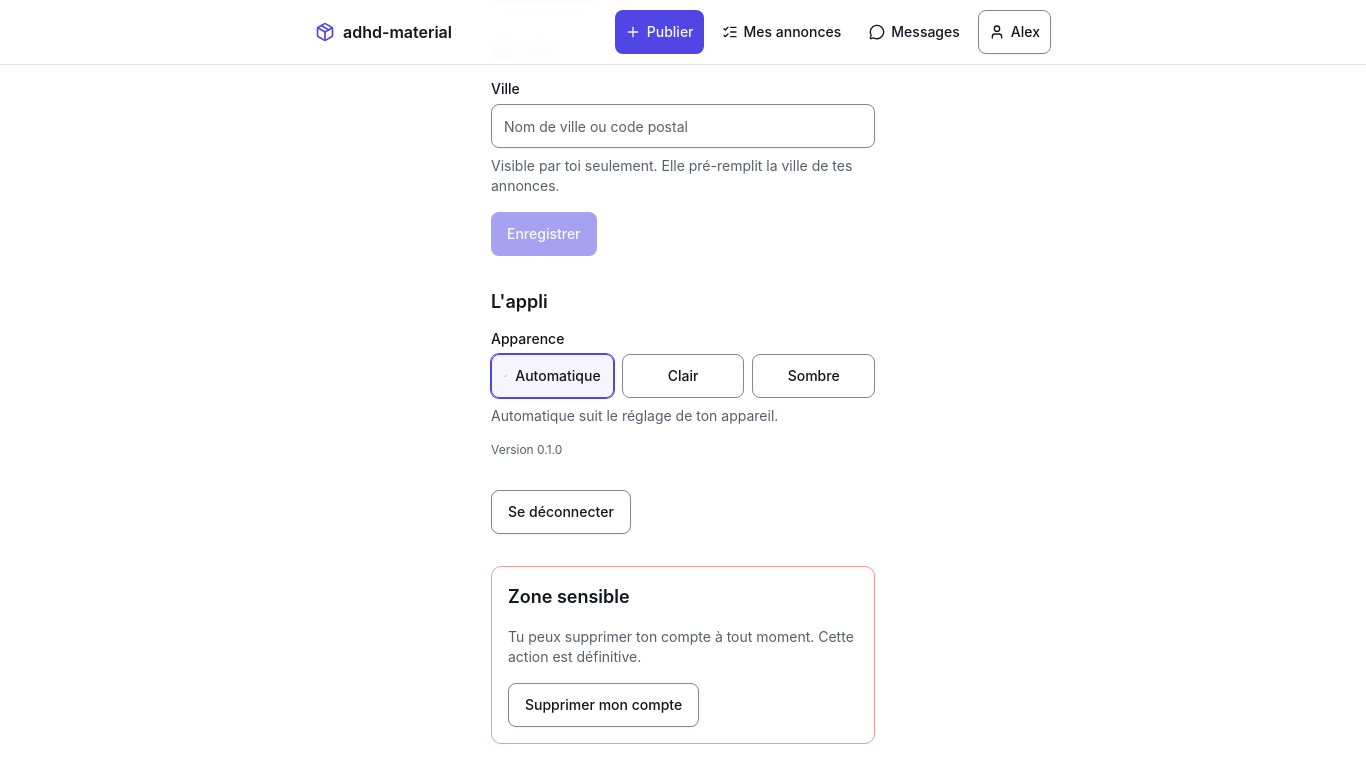
Scenario: suppression de compte › demande une ré-authentification à l'avance si la connexion est ancienne
The width and height of the screenshot is (1366, 768).
(page scrolled)
Click the button "Supprimer mon compte" at (604, 705), box [508,683,699,727]
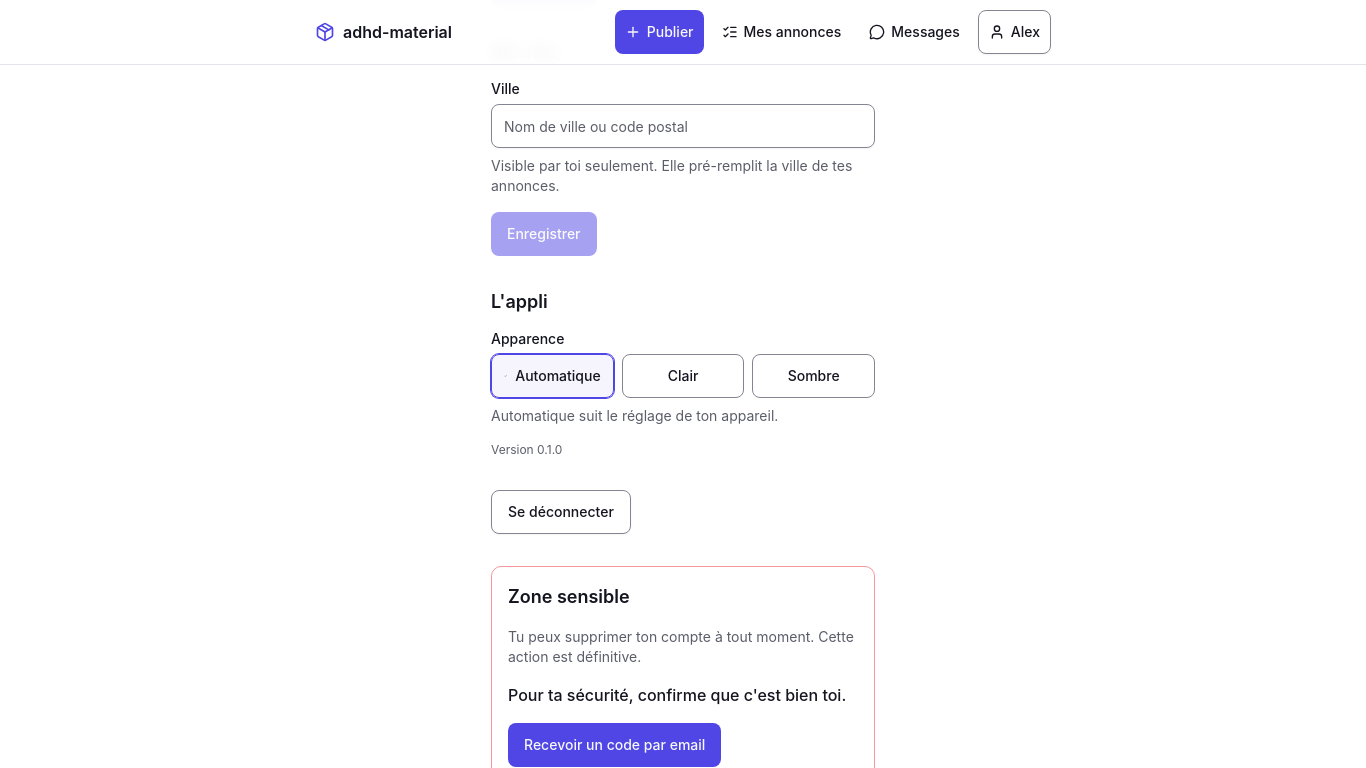
Result: the text "Pour ta sécurité, confirme que c'est bien toi." is shown at [508,683,858,707]
Click the button "Recevoir un code par email" at (615, 745), box [508,723,721,767]
(page scrolled)
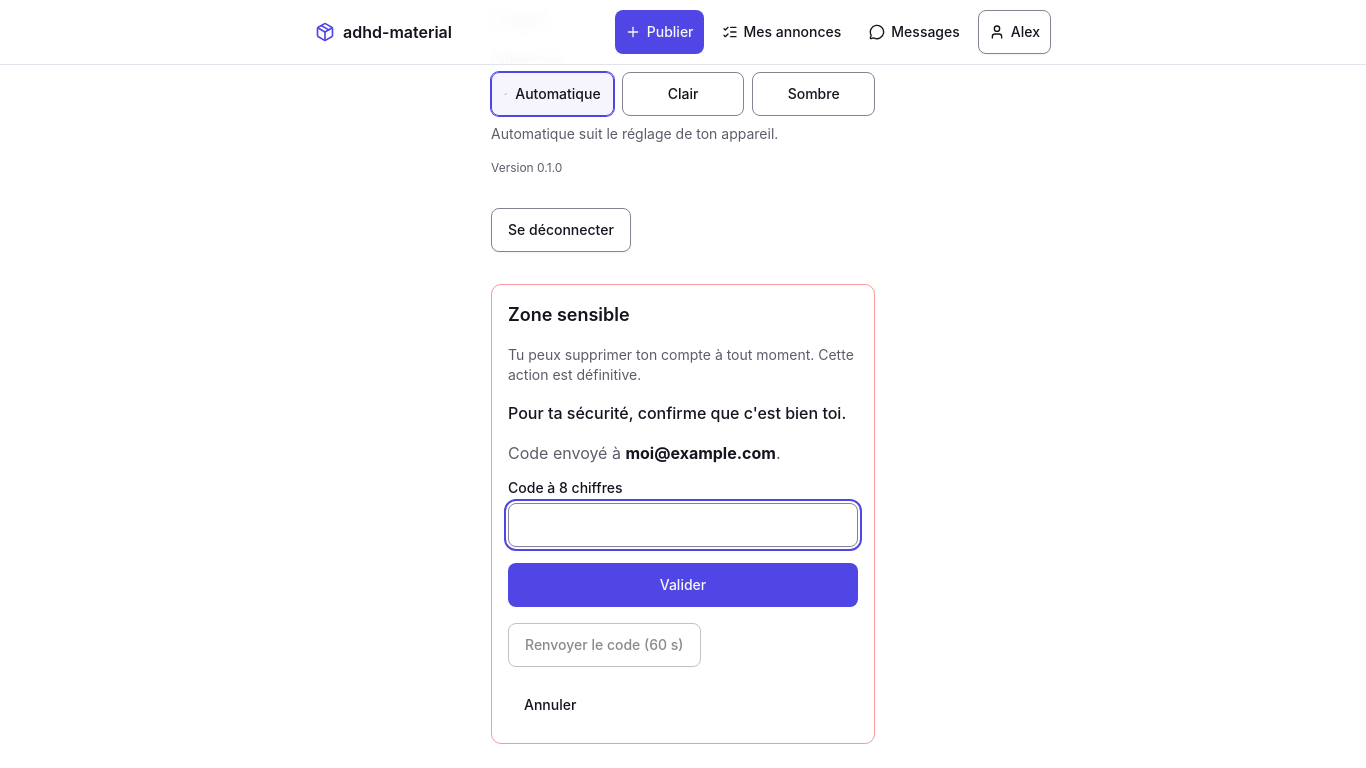
Type "12345678" into the field labelled "Code à 8 chiffres" at (683, 525), box [508,503,858,547]
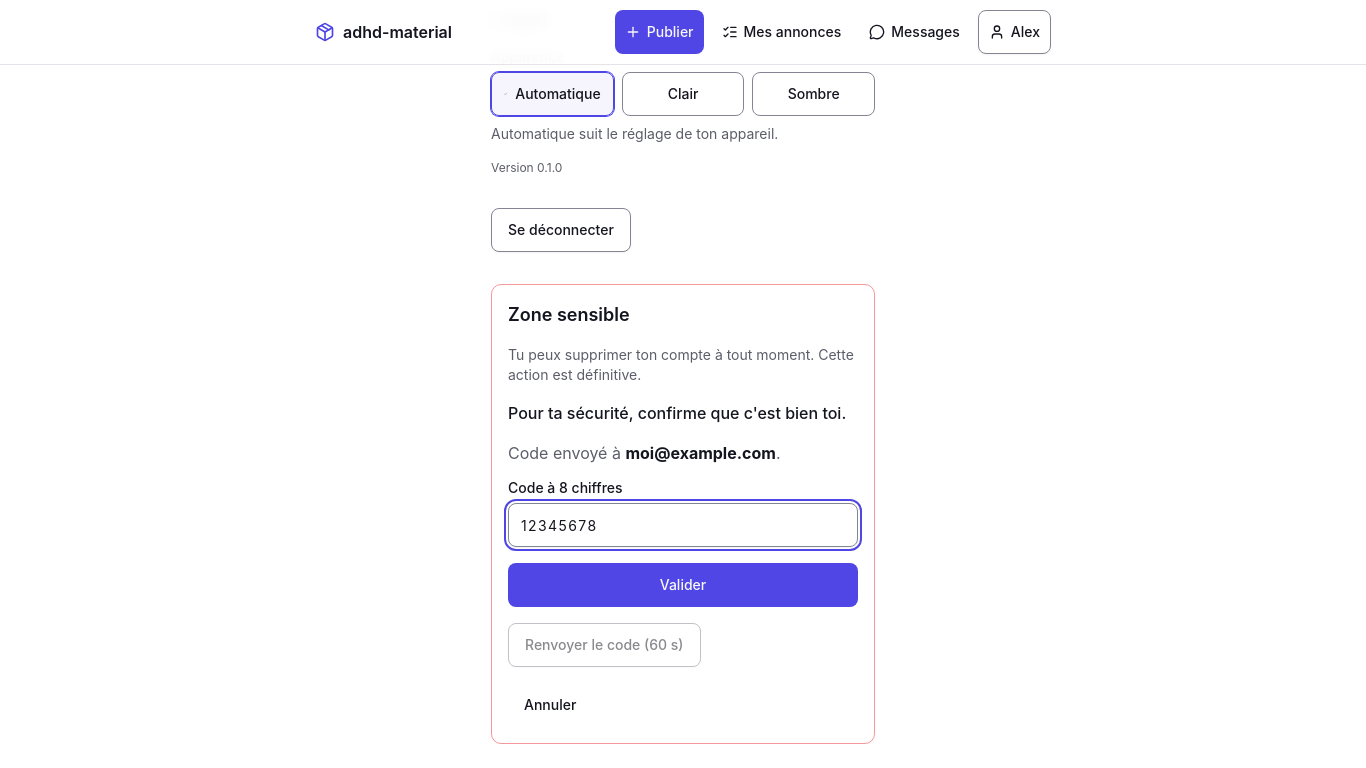
Click the button "Valider" at (683, 585), box [508,563,858,607]
(page scrolled)
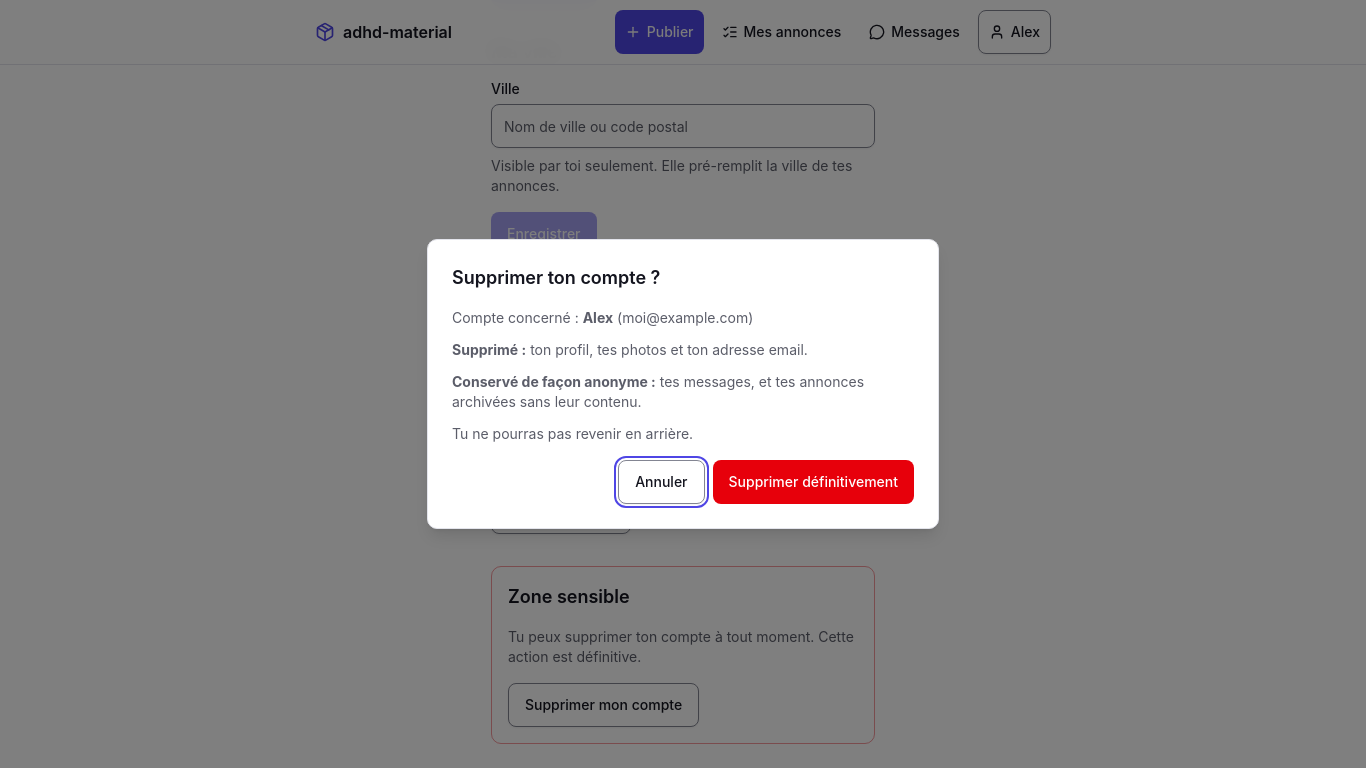
Result: the dialog is shown at [427,239,939,529]
